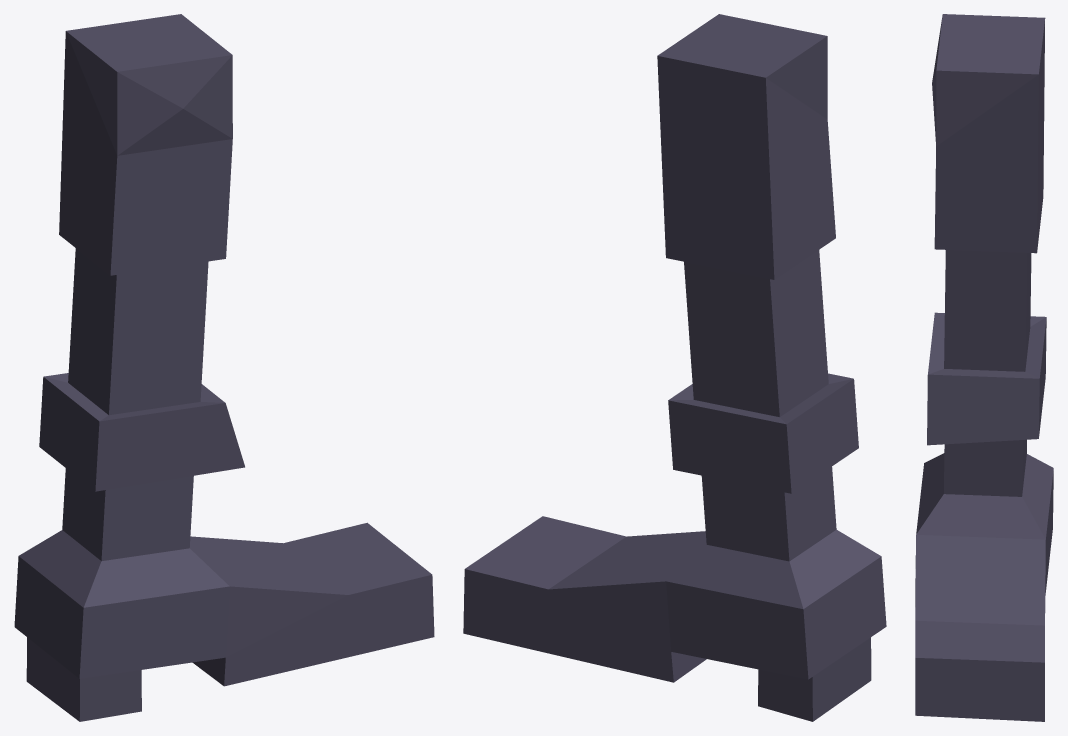
Rendered from Robo-KnightLeftFeet.fbx.
3 views of the same model, side by side, from view 1: azimuth 30°, elevation 25°; view 2: azimuth 150°, elevation 25°; view 3: azimuth 270°, elevation 25° (orthographic). The views are drawn at different scales.
Parts seen in each view (by area): view 1: polySurface513; view 2: polySurface513; view 3: polySurface513.
Part boxes in pixels (x1=…): polySurface513: x1=14, y1=14, x2=434, y2=721; polySurface513: x1=463, y1=14, x2=886, y2=721; polySurface513: x1=915, y1=14, x2=1053, y2=721.
Bounding box in the file's own units: 118 × 203 × 43.96.
